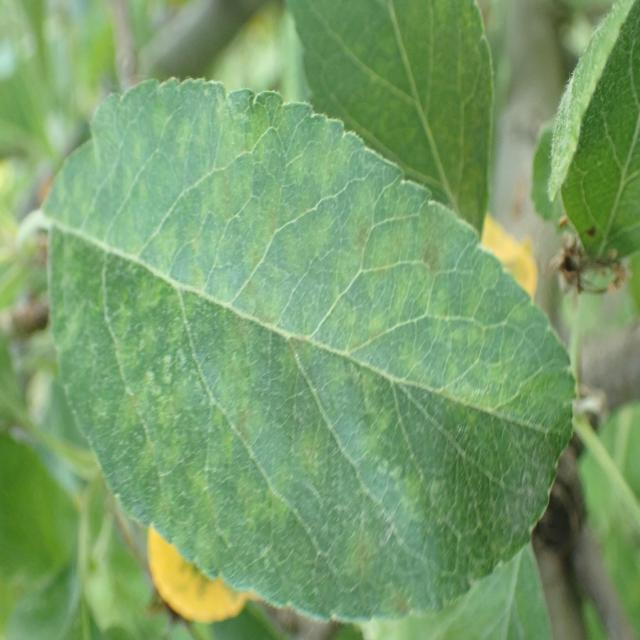scab: (56, 89, 562, 620)
